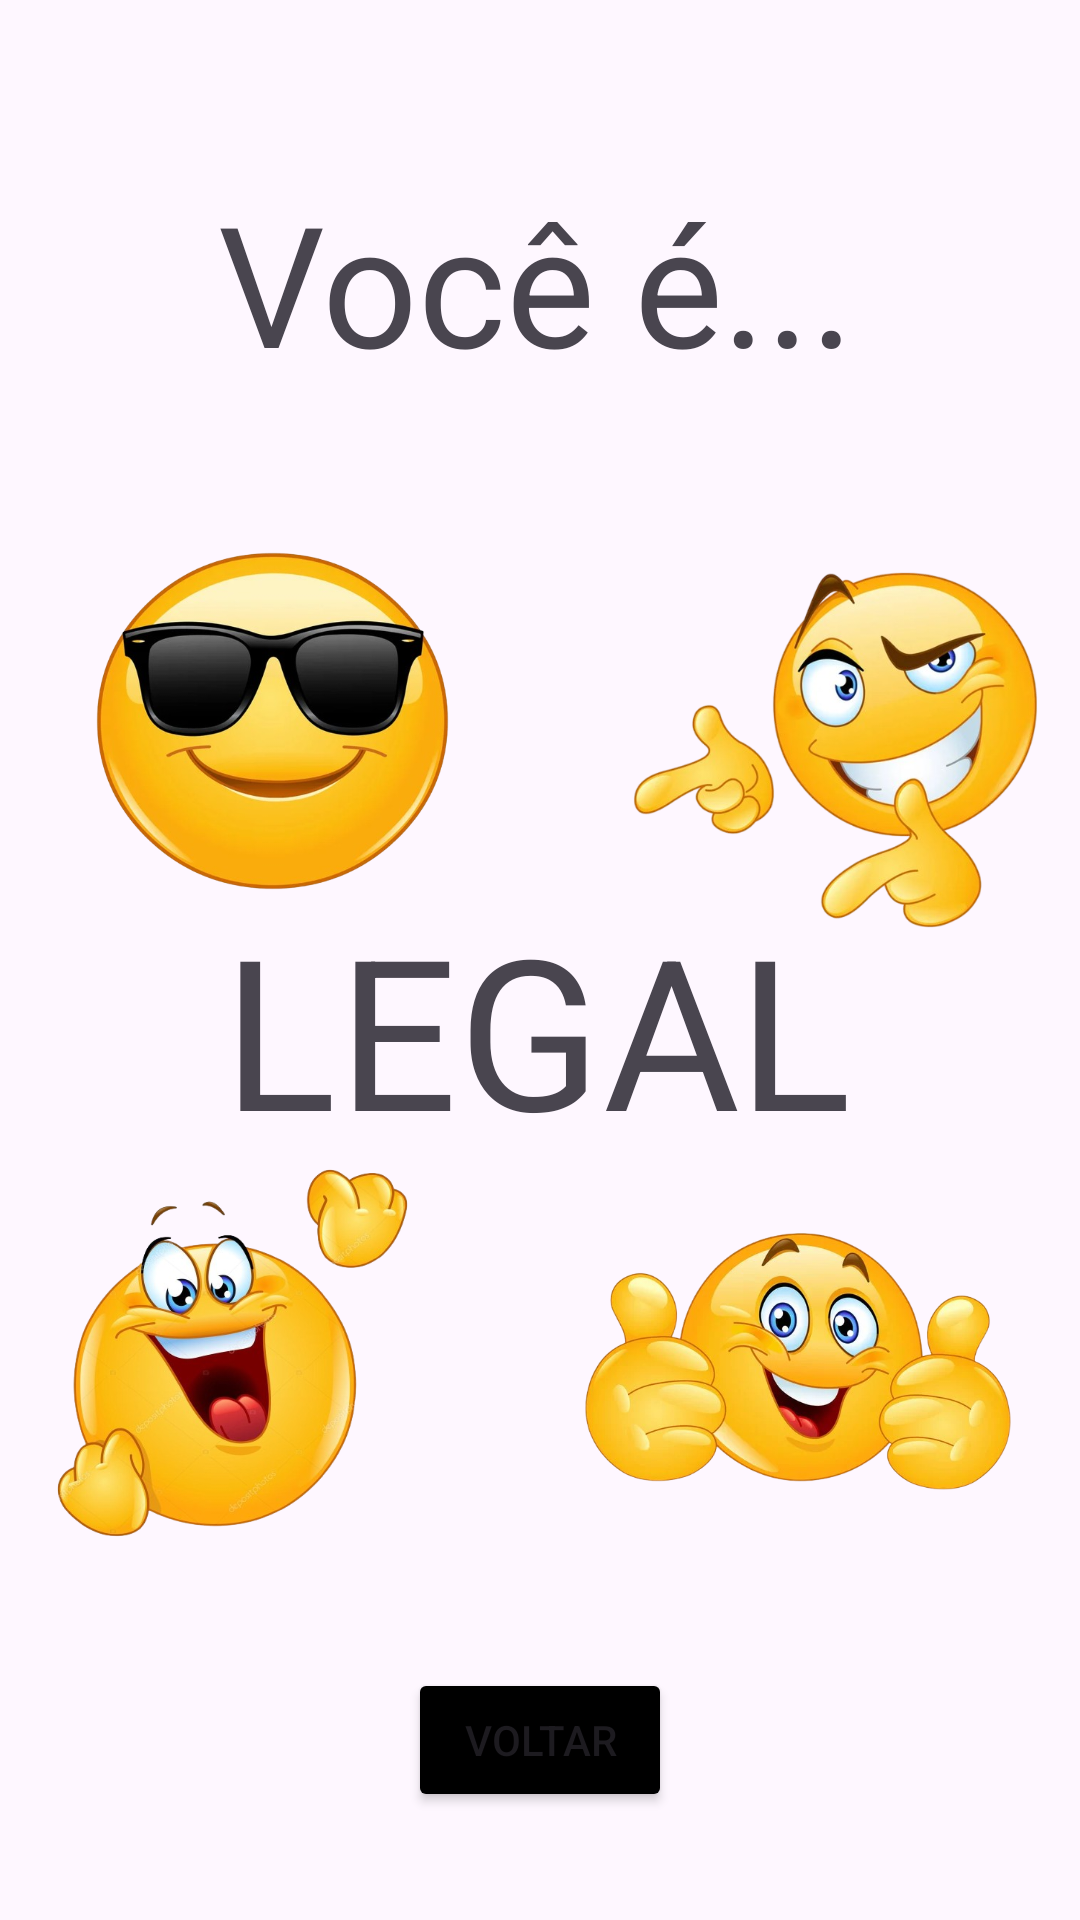

Where to tap for icons on this 1080 × 1920 app screen, as (x=x, y=y):
oculos: (x=272, y=721)
